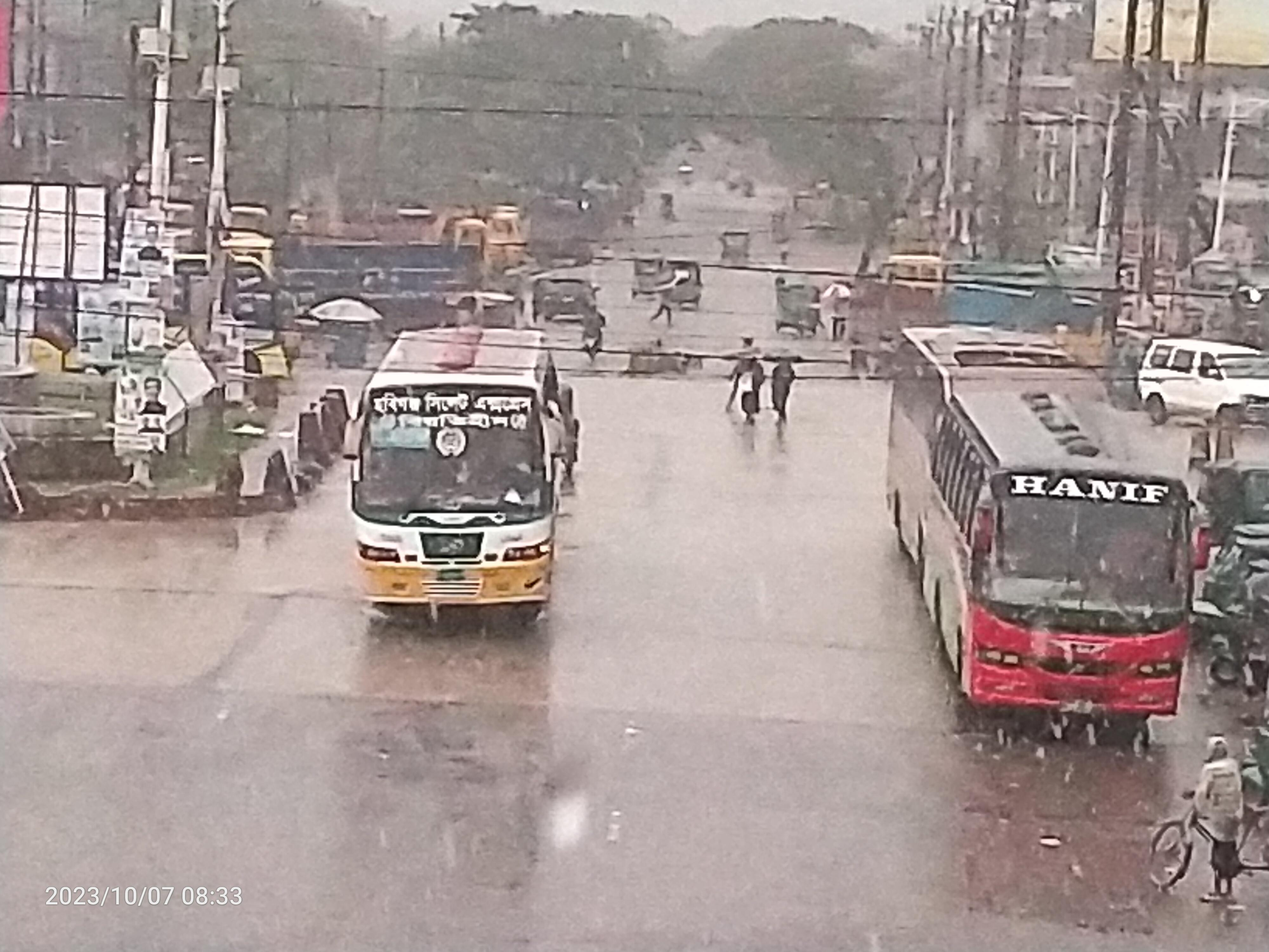Bus: (898, 379, 1206, 755), (317, 285, 585, 658), (867, 311, 953, 571)
Car: (1128, 321, 1269, 436)
Truck: (200, 196, 482, 325)
